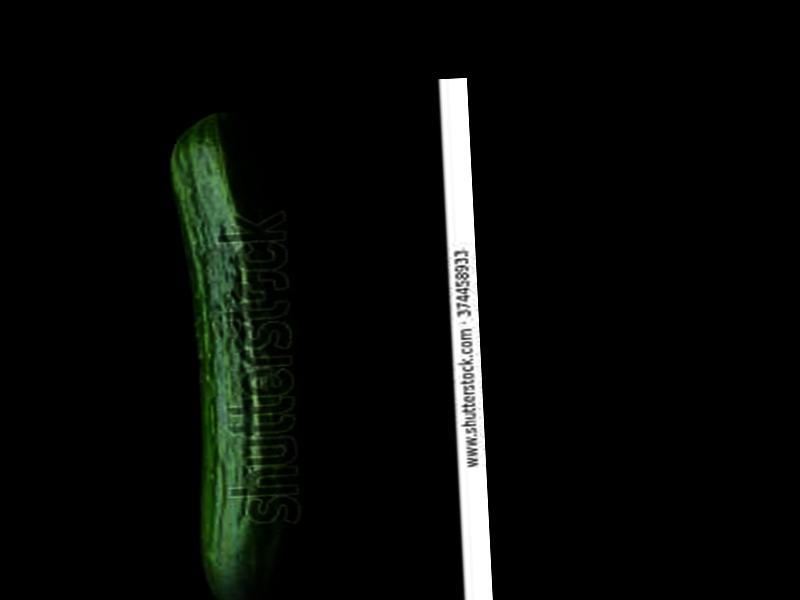Cucumber: (170, 106, 311, 600)
